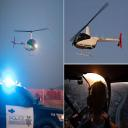helicopter: (70, 3, 126, 59), (13, 28, 52, 56)
